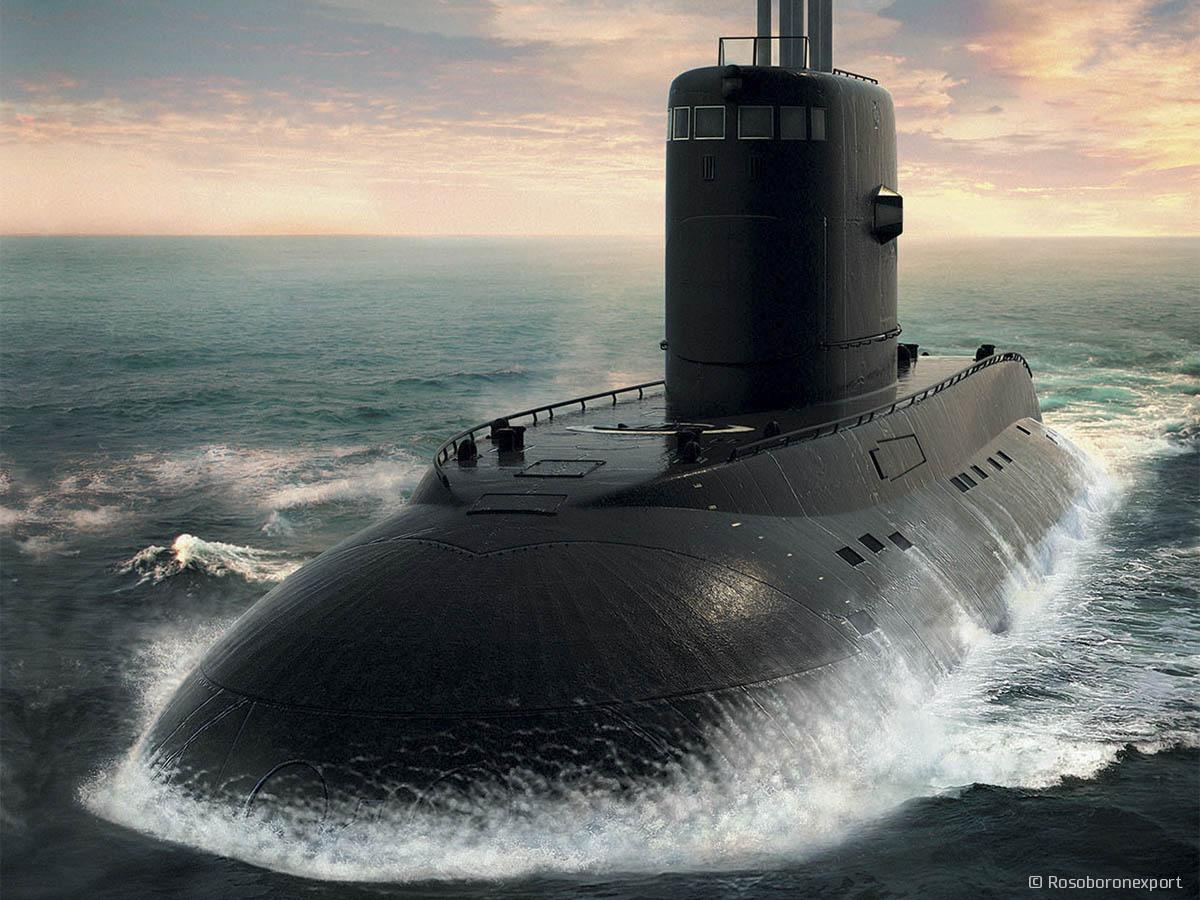Submarine: (85, 0, 1200, 870)
